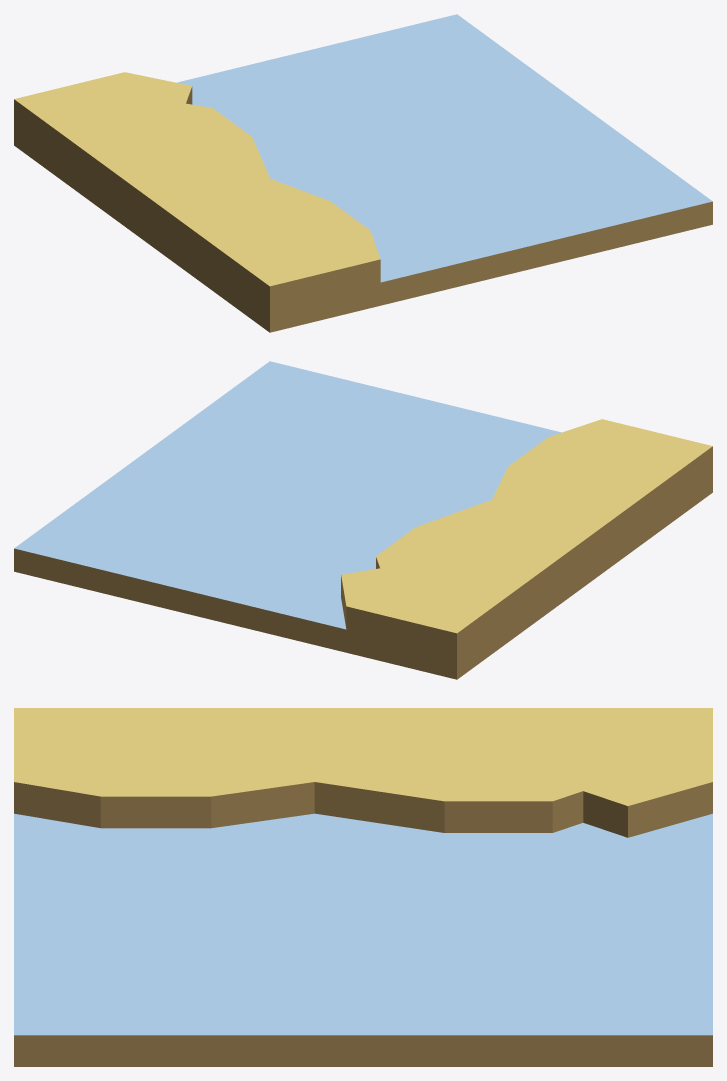
File: Terrain_Modular_Tiles_Sand_Dirt_Water_Edge_Straight_01.fbx
3 renders of one model, top to bottom at view 1: azimuth 30°, elevation 25°; view 2: azimuth 150°, elevation 25°; view 3: azimuth 270°, elevation 25°, orthographic. The views are drawn at different scales.
Visible parts, largest first — view 1: Terrain_Modular_Tiles_Sand_Dirt_Water_Edge_Straight_01; view 2: Terrain_Modular_Tiles_Sand_Dirt_Water_Edge_Straight_01; view 3: Terrain_Modular_Tiles_Sand_Dirt_Water_Edge_Straight_01.
Boxes of the visible parts, box(x1,y1,x2,y2) form: Terrain_Modular_Tiles_Sand_Dirt_Water_Edge_Straight_01: box(14, 14, 712, 332); Terrain_Modular_Tiles_Sand_Dirt_Water_Edge_Straight_01: box(14, 361, 712, 679); Terrain_Modular_Tiles_Sand_Dirt_Water_Edge_Straight_01: box(14, 708, 712, 1066).
Size of the model in its own units: 3000 by 300 by 3000.
